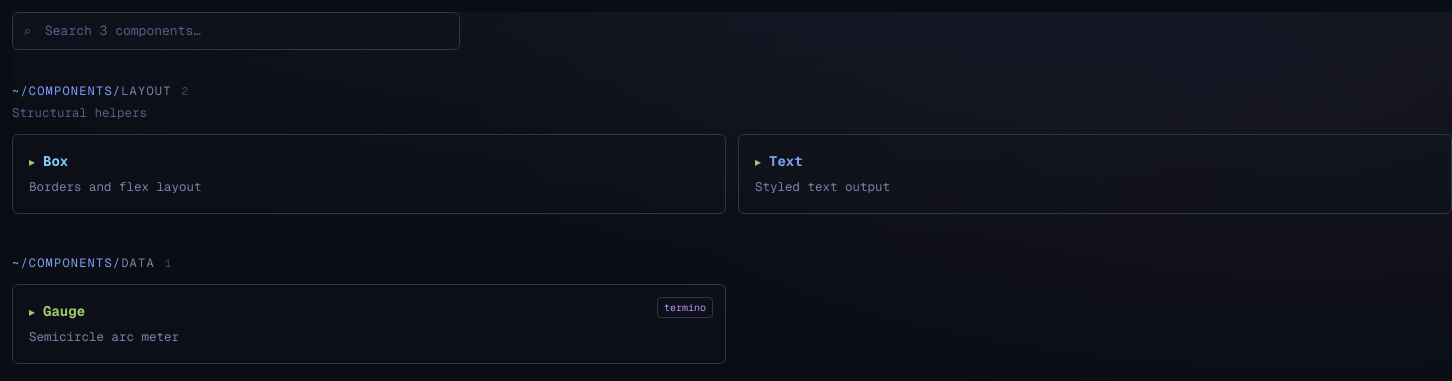
ComponentGallery › filters items by name
Type "gau" into the field at (236, 31), box [12,12,460,50]
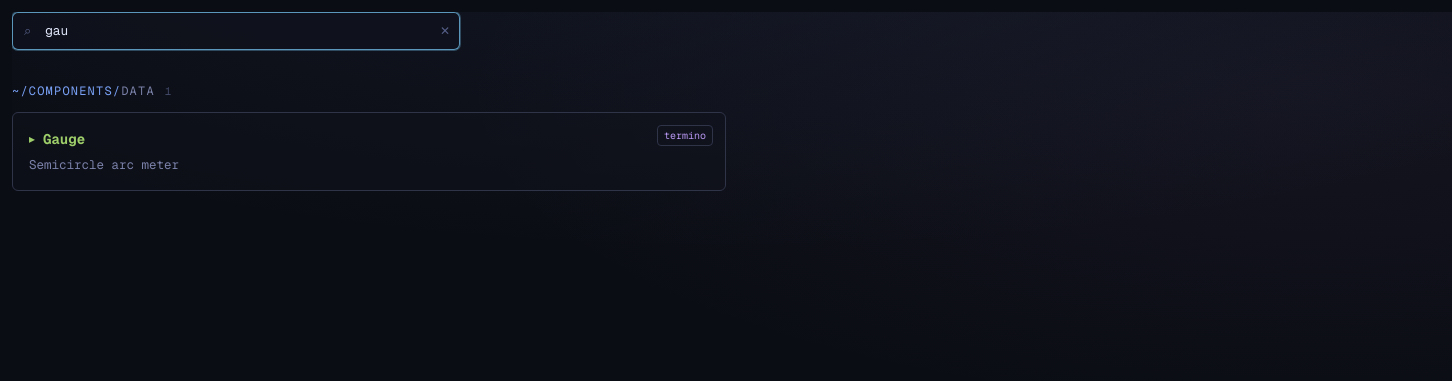
Expected: the link "termino ▸ Gauge Semicircle arc meter" is shown, [12,112,726,191]
Result: the link "Box" is gone
